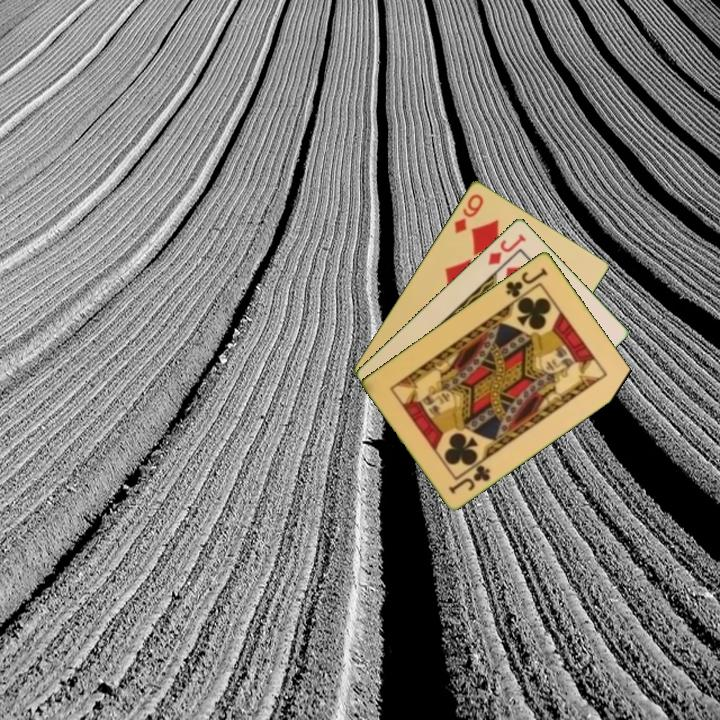9d: (450, 190, 486, 236)
Jc: (502, 264, 550, 300), (445, 461, 493, 497)
Jd: (484, 230, 529, 268)
